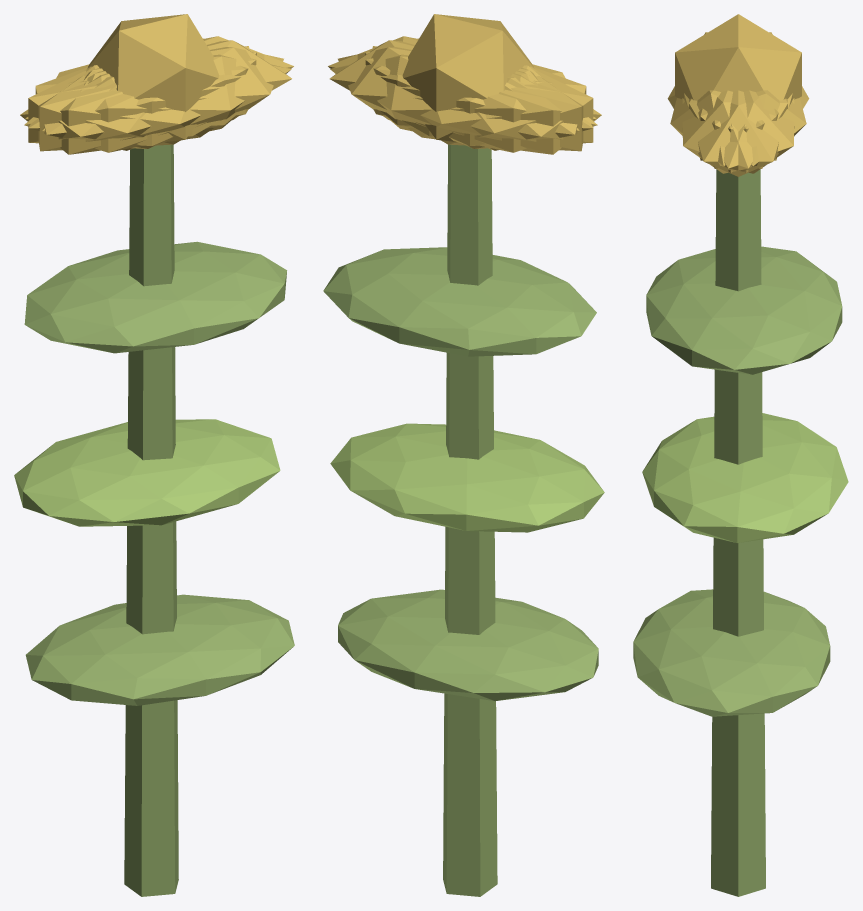
File: arachnothryx-leucophylla.glb
3 renders of one model, left to right at view 1: azimuth 30°, elevation 25°; view 2: azimuth 150°, elevation 25°; view 3: azimuth 270°, elevation 25°, orthographic.
Visible parts, largest first — view 1: stem, leaf0, leaf2, leaf1, center, petal1, petal6, petal2, petal5, petal7, petal0, petal4 (+2 smaller); view 2: stem, leaf1, leaf2, leaf0, center, petal8, petal3, petal7, petal4, petal2, petal0, petal5 (+2 smaller); view 3: stem, leaf2, leaf1, leaf0, center, petal0, petal5, petal4, petal1, petal8.
Part boxes in pixels (box(x1,y1,x2,y2)): stem: box(124, 144, 178, 896); leaf0: box(25, 594, 294, 705); leaf2: box(24, 241, 286, 353); leaf1: box(14, 419, 280, 526); center: box(87, 14, 219, 141); petal1: box(24, 54, 291, 152); petal6: box(20, 66, 213, 154); petal2: box(38, 46, 249, 151); petal5: box(42, 47, 283, 145); petal7: box(28, 51, 256, 148); petal0: box(87, 40, 291, 136); petal4: box(25, 36, 293, 128); stem: box(443, 144, 497, 896); leaf1: box(330, 423, 604, 532); leaf2: box(323, 247, 596, 356); leaf0: box(338, 589, 598, 701); center: box(402, 14, 534, 141); petal8: box(330, 54, 597, 152); petal3: box(408, 66, 601, 154); petal7: box(372, 46, 583, 151); petal4: box(338, 47, 579, 145); petal2: box(365, 51, 593, 148); petal0: box(329, 40, 534, 136); petal5: box(328, 36, 596, 128); stem: box(711, 169, 765, 896); leaf2: box(646, 246, 842, 374); leaf1: box(642, 413, 848, 542); leaf0: box(633, 589, 830, 716); center: box(675, 14, 801, 100); petal0: box(684, 90, 792, 176); petal5: box(682, 90, 787, 173); petal4: box(689, 90, 794, 173); petal1: box(670, 90, 778, 166); petal8: box(698, 90, 806, 166).
Size of the model in its own units: 0.1452 by 0.455 by 0.1039.
